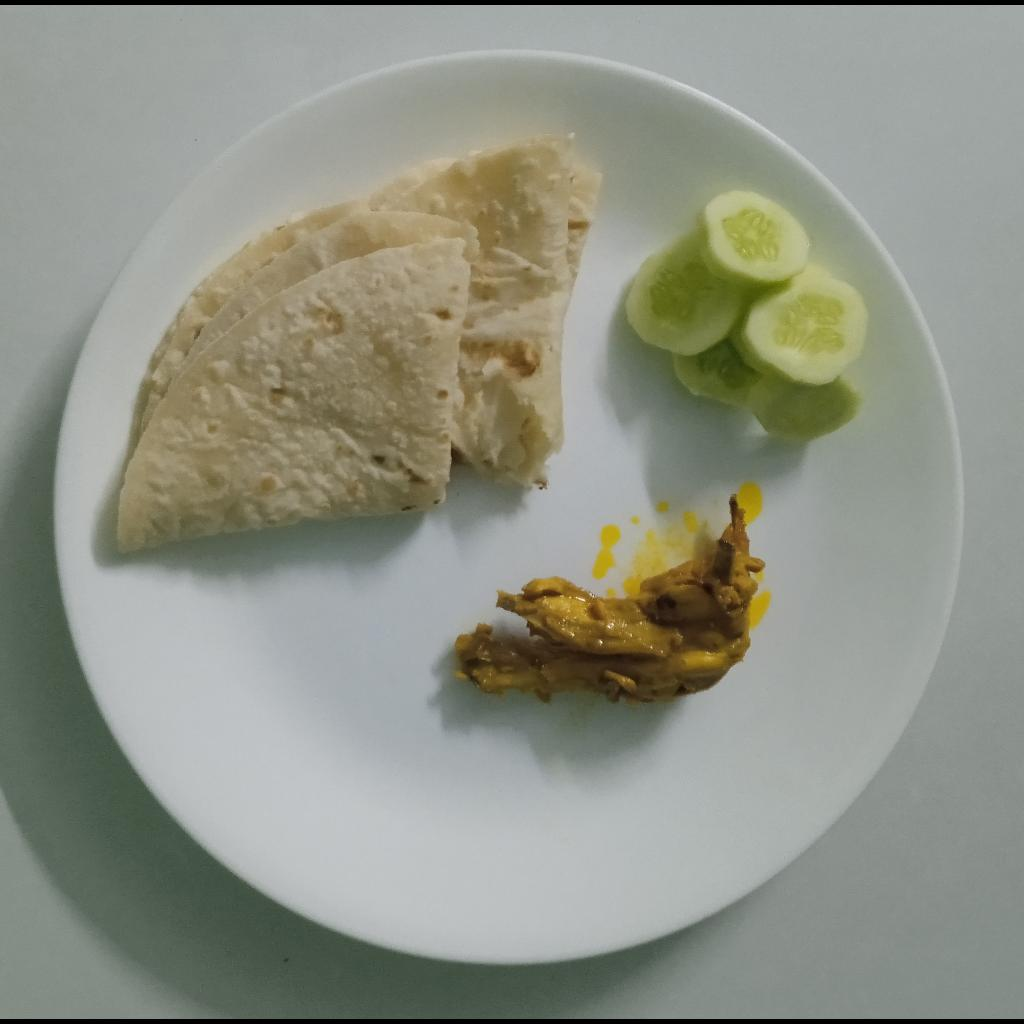chicken: (449, 490, 770, 706)
cucumber: (629, 186, 867, 441)
ruti: (114, 143, 605, 555)
